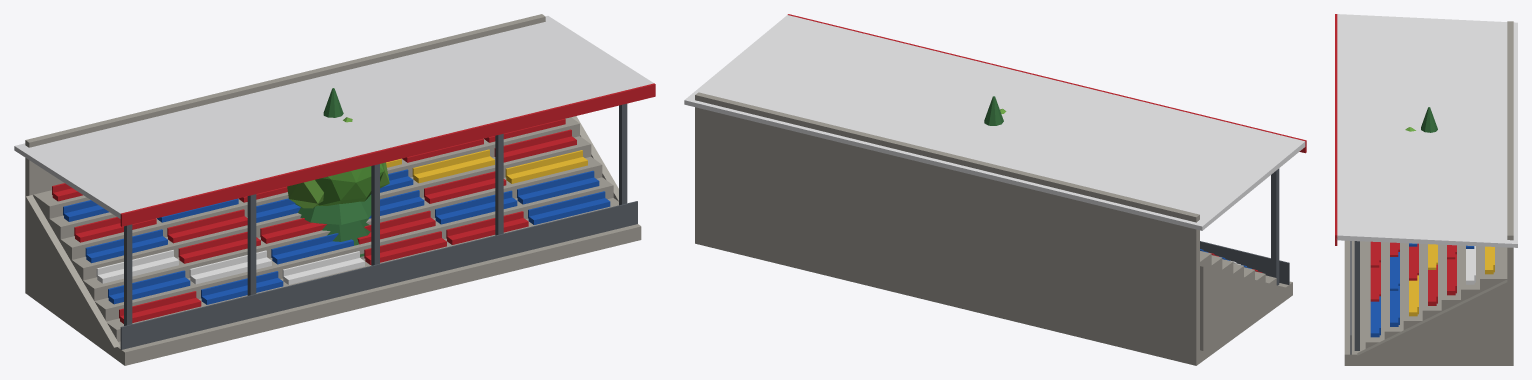
File: props.glb
3 views of the same model, side by side, from view 1: azimuth 30°, elevation 25°; view 2: azimuth 150°, elevation 25°; view 3: azimuth 270°, elevation 25° (orthographic). The views are drawn at different scales.
Visible parts, largest first — view 1: Grandstand, TreeRound, TreePine; view 2: Grandstand; view 3: Grandstand, TreePine.
Boxes of the visible parts, <box> form: Grandstand: <box>14,14,655,365</box>; TreeRound: <box>287,117,389,208</box>; TreePine: <box>295,88,371,256</box>; Grandstand: <box>684,14,1306,365</box>; Grandstand: <box>1335,14,1517,365</box>; TreePine: <box>1421,107,1437,132</box>.
Size of the model in its own units: 24.8 by 7.9 by 8.65.
